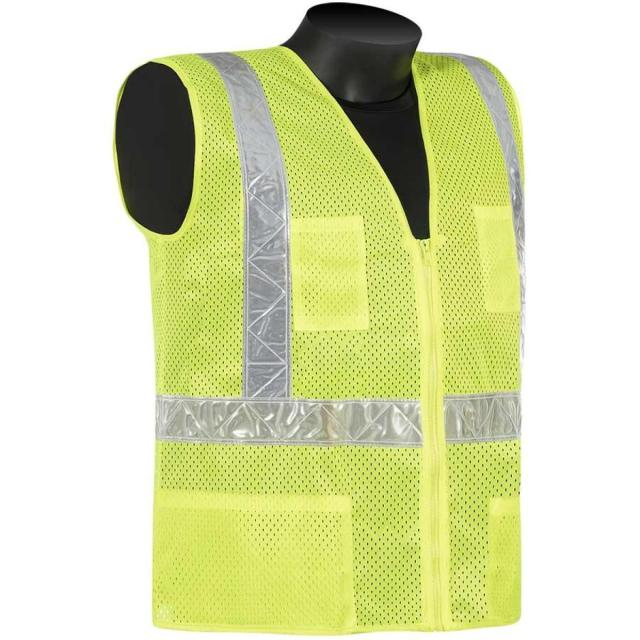Vest: (115, 43, 527, 636)
